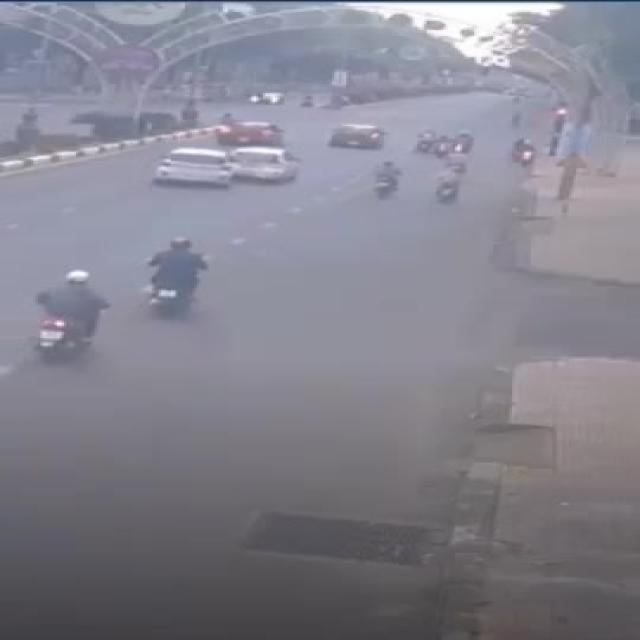normal: (26, 213, 214, 363), (144, 110, 307, 193), (361, 151, 470, 214)
